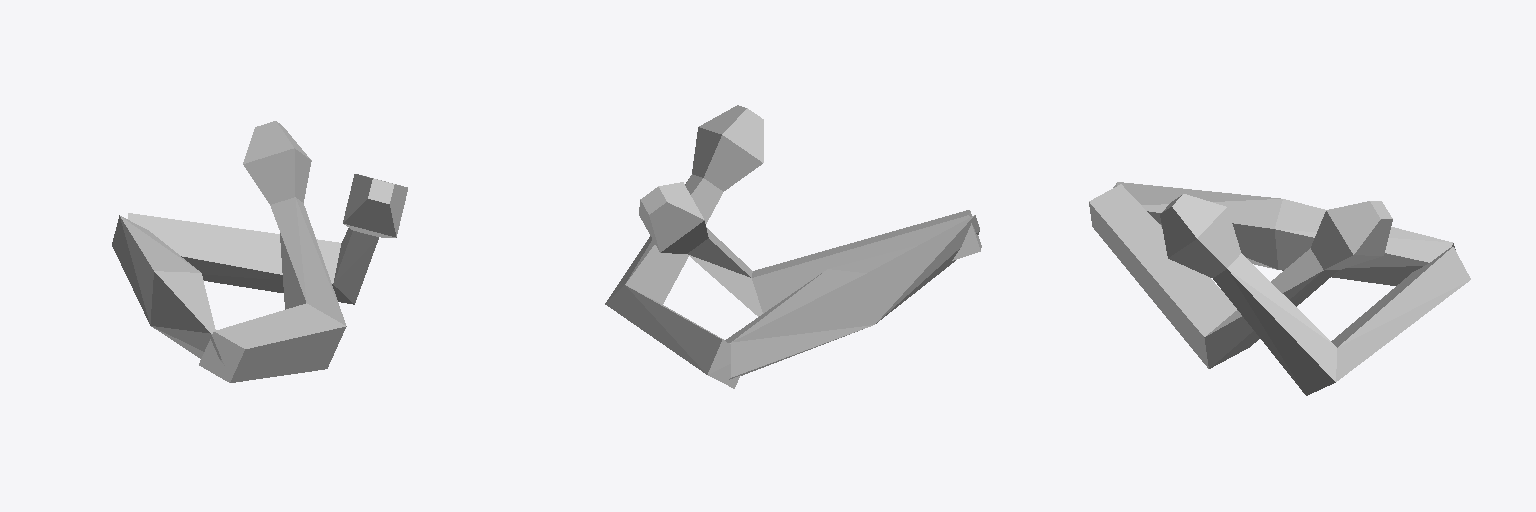
Rendered from handsBlock_000022.obj.
3 renders of one model, left to right at view 1: azimuth 30°, elevation 25°; view 2: azimuth 150°, elevation 25°; view 3: azimuth 270°, elevation 25°, orthographic.
Parts seen in each view (by area): view 1: Cube; view 2: Cube; view 3: Cube.
Boxes of the visible parts, box(x1,y1,x2,y2) form: Cube: box(112, 121, 407, 382); Cube: box(605, 105, 981, 388); Cube: box(1089, 182, 1470, 395).
Size of the model in its own units: 4.13 by 2.8 by 5.07.